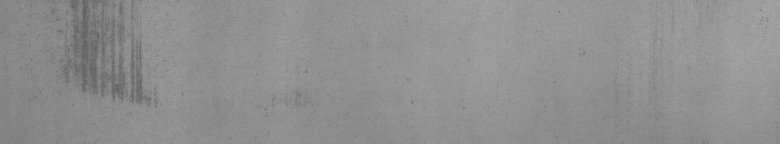ka: (58, 4, 158, 108)
